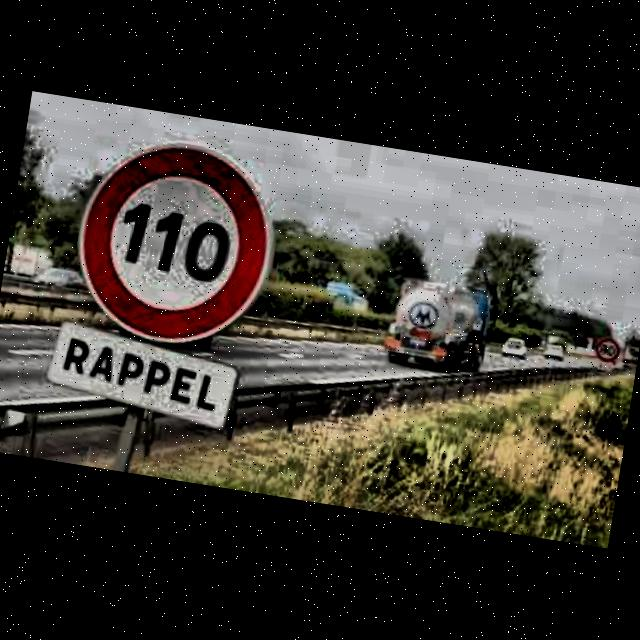speed_110: (64, 127, 290, 360)
